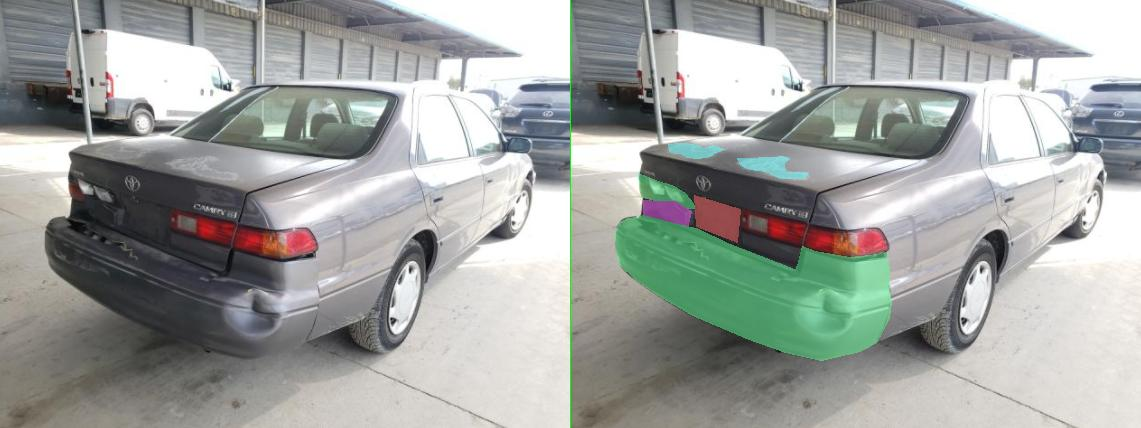Broken part: (88, 215, 641, 360), (134, 173, 248, 208)
Dent: (450, 290, 568, 336), (144, 200, 240, 228)
Flaking: (94, 226, 462, 304), (122, 239, 452, 309), (178, 219, 410, 274), (106, 246, 220, 276), (332, 156, 474, 178), (400, 276, 573, 290), (194, 143, 306, 158)
Missing part: (246, 195, 338, 242)
